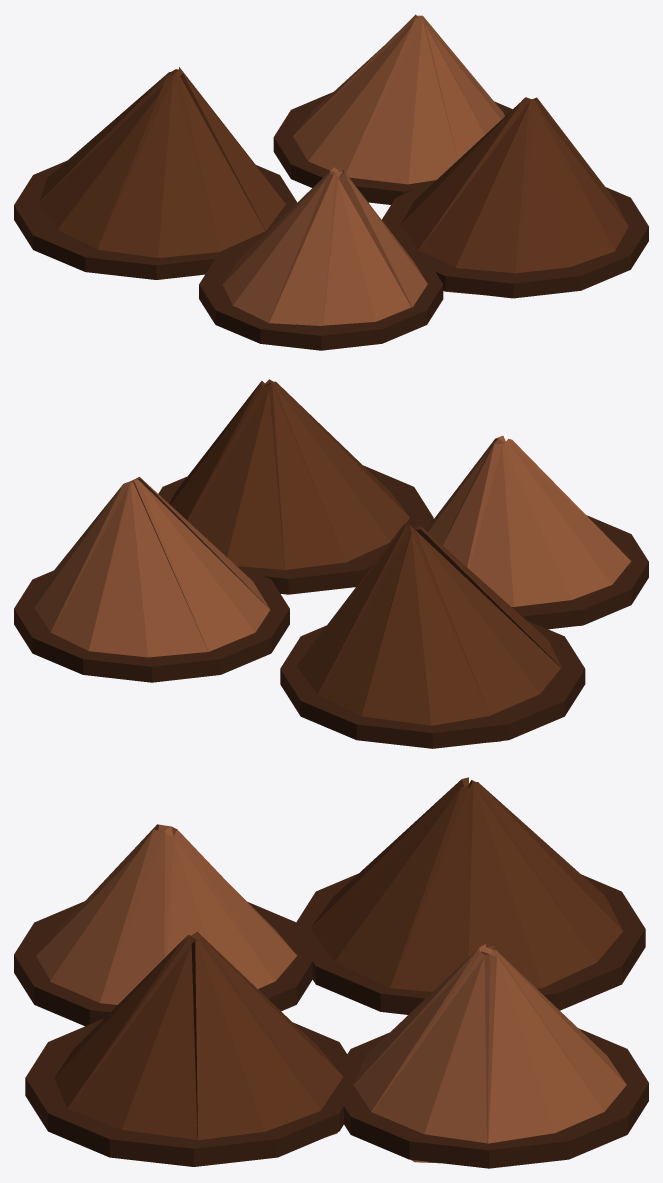
File: ChocolateChips.fbx
3 renders of one model, top to bottom at view 1: azimuth 30°, elevation 25°; view 2: azimuth 150°, elevation 25°; view 3: azimuth 270°, elevation 25°, orthographic. The views are drawn at different scales.
Parts seen in each view (by area): view 1: Top_5A2E16, Top_8C5030, Top_3C1E0E; view 2: Top_5A2E16, Top_8C5030, Top_3C1E0E; view 3: Top_5A2E16, Top_8C5030, Top_3C1E0E.
Boxes of the visible parts, <box> form: Top_5A2E16: <box>39,67,628,295</box>; Top_8C5030: <box>223,14,504,325</box>; Top_3C1E0E: <box>14,92,648,350</box>; Top_5A2E16: <box>169,379,561,742</box>; Top_8C5030: <box>34,435,631,657</box>; Top_3C1E0E: <box>14,465,648,748</box>; Top_5A2E16: <box>54,777,623,1140</box>; Top_8C5030: <box>36,824,626,1163</box>; Top_3C1E0E: <box>14,874,648,1168</box>.
Bounding box in the file's own units: 2 × 0.5816 × 1.81.
